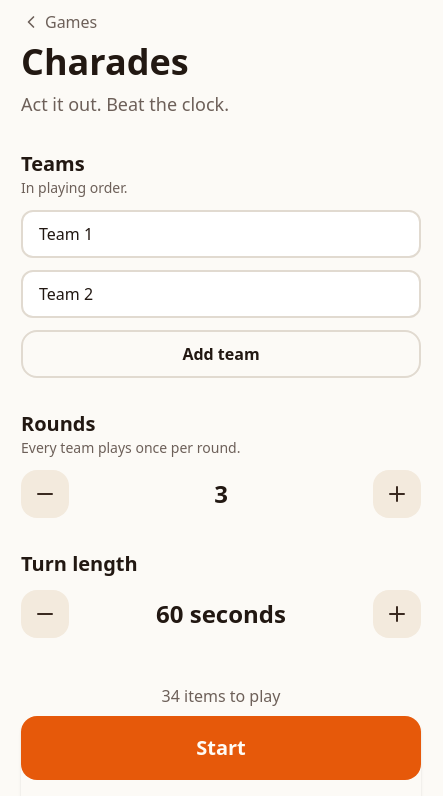
Scenario: setup screen › shows what’s wrong with a team name next to it, and Start is off until it’s fixed
This screenshot has width=443, height=796.
Clear the field named "Team 1". click: (221, 234)
box: [21,210,421,258]
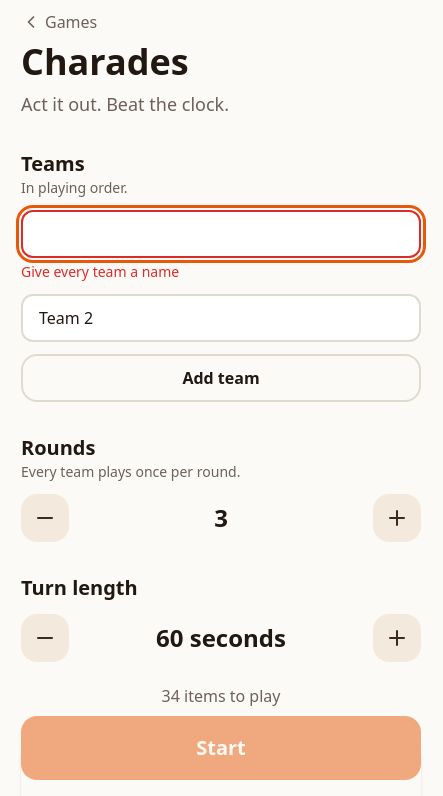
Now the text "Give every team a name" is shown, box [21,262,179,281]
Now the button "Start" is disabled, box [21,716,421,780]
Type "team 2" into the field named "Team 1". click: (221, 234)
box: [21,210,421,258]
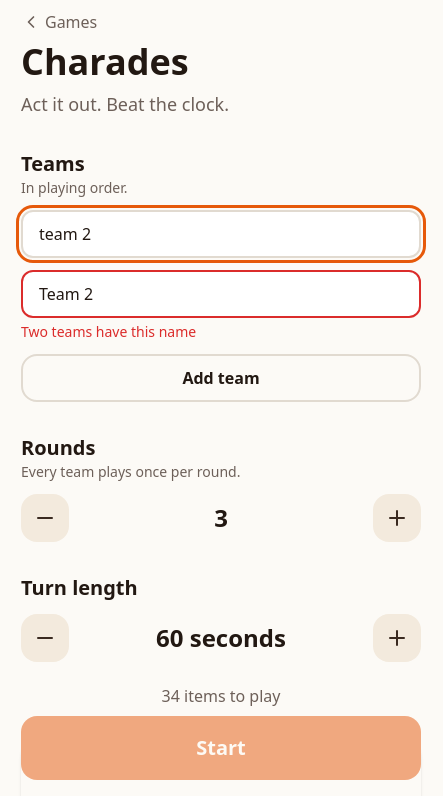
Now the button "Start" is disabled, box [21,716,421,780]
Now the text "Two teams have this name" is shown, box [21,322,196,341]
Type "s" into the field named "Team 1". click: (221, 234)
box: [21,210,421,258]
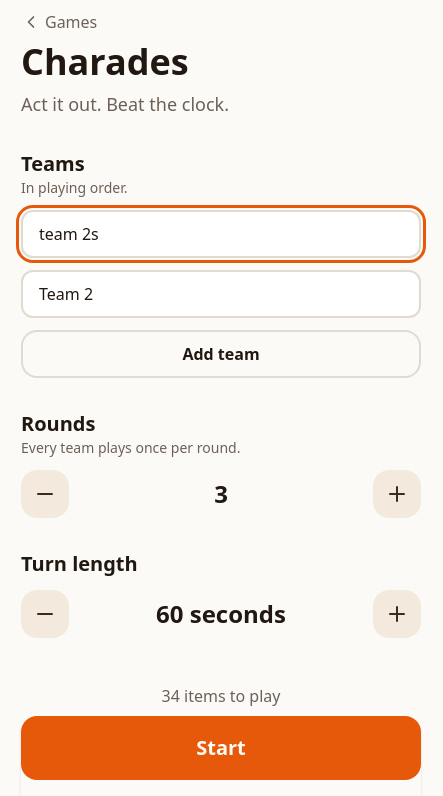
Now the button "Start" is enabled, box [21,716,421,780]
